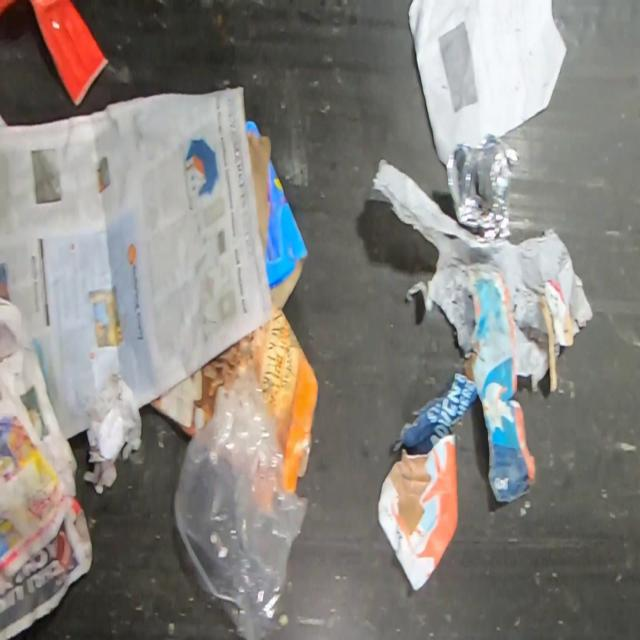cardboard: (148, 305, 320, 492), (246, 118, 310, 310)
metal: (446, 132, 521, 239)
rigid_plastic: (28, 0, 110, 107)
soft_plastic: (370, 158, 594, 394), (173, 363, 312, 639)
